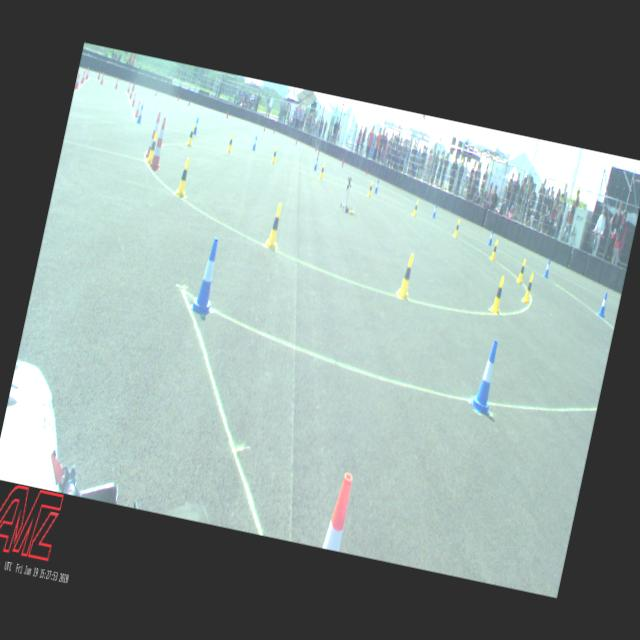blue_cone: (188, 235, 226, 317), (468, 338, 505, 415), (596, 291, 608, 317), (542, 257, 552, 278), (136, 103, 144, 123), (486, 228, 494, 246), (193, 118, 199, 134), (252, 134, 258, 150), (432, 203, 438, 218), (312, 156, 318, 170), (374, 180, 379, 193)
large_orange_cone: (149, 116, 170, 169), (144, 111, 160, 159)
orange_cone: (322, 470, 354, 550), (134, 99, 142, 117), (74, 73, 80, 89), (130, 92, 136, 106), (80, 70, 86, 84), (84, 67, 90, 79), (129, 86, 134, 98), (114, 78, 119, 89), (100, 72, 104, 84), (126, 81, 130, 92)
yellow_cone: (264, 201, 286, 249), (395, 252, 417, 299), (173, 156, 194, 197), (487, 274, 507, 315), (520, 272, 536, 304), (146, 131, 158, 162), (516, 258, 526, 284), (186, 123, 196, 146), (489, 239, 498, 261), (226, 132, 235, 152), (452, 218, 460, 238), (318, 161, 326, 178), (366, 180, 374, 197), (271, 146, 278, 163), (412, 200, 418, 217)
